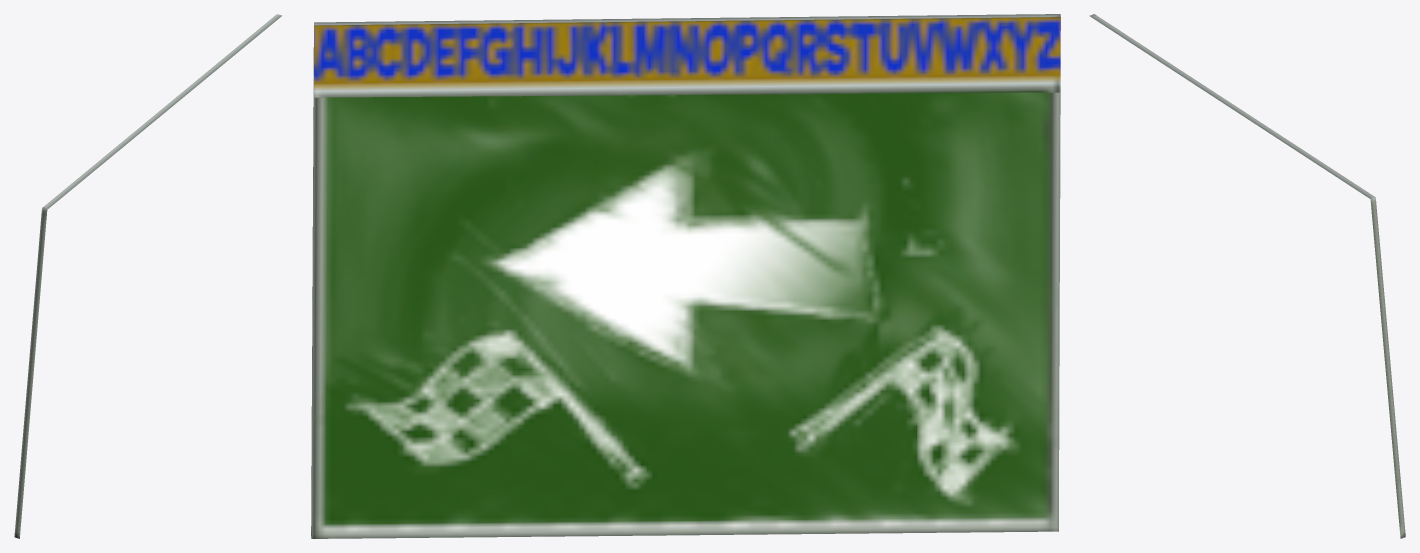
File: raceboard05.glb
3 views of the same model, side by side, from view 1: azimuth 30°, elevation 25°; view 2: azimuth 150°, elevation 25°; view 3: azimuth 270°, elevation 25° (orthographic). The views are drawn at different scales.
Visible parts, largest first — view 1: raceboard05; view 2: raceboard05; view 3: raceboard05.
Boxes of the visible parts, left/top/right/bottom form: raceboard05: left=14, top=14, right=281, bottom=538; raceboard05: left=311, top=14, right=1060, bottom=538; raceboard05: left=1089, top=14, right=1405, bottom=538.
Size of the model in its own units: 315 by 264 by 216.
Materials: 1 (1 with a texture image).
